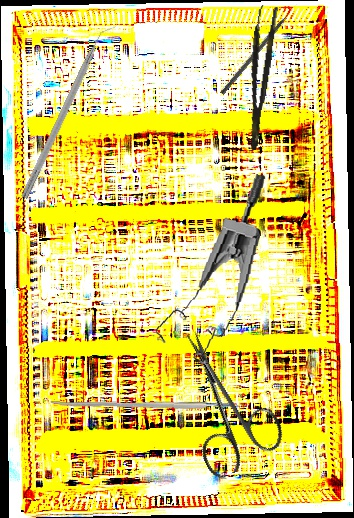Chopper: (20, 20, 120, 204)
Hook Surgical: (219, 2, 300, 96)
Iris Scissors: (151, 315, 291, 483)
Scalpel Handle: (49, 399, 242, 411)
Speculum: (153, 165, 267, 369)
Tissue Forceps: (238, 4, 279, 151)
